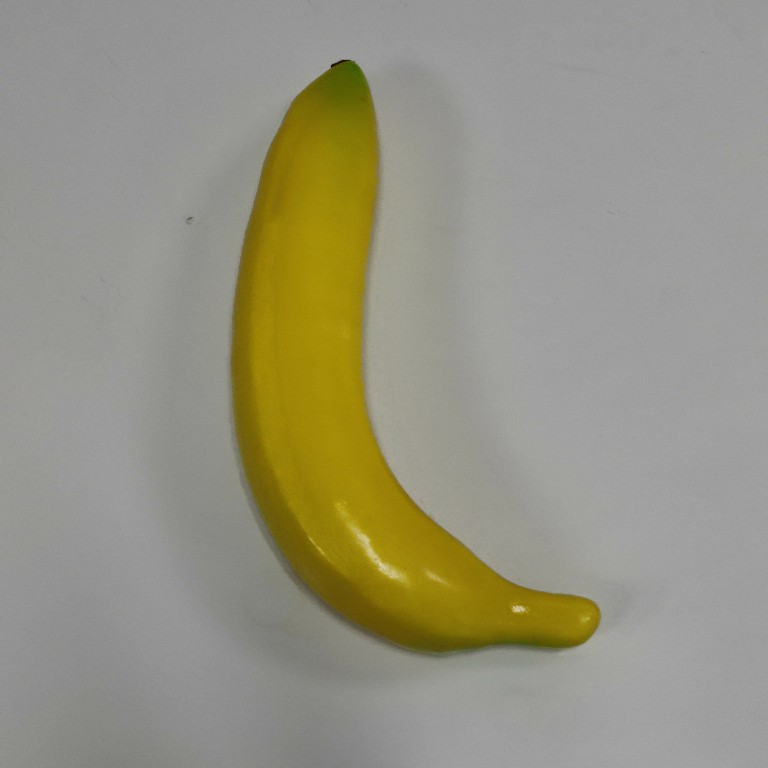fruit_banana: (221, 55, 606, 664)
